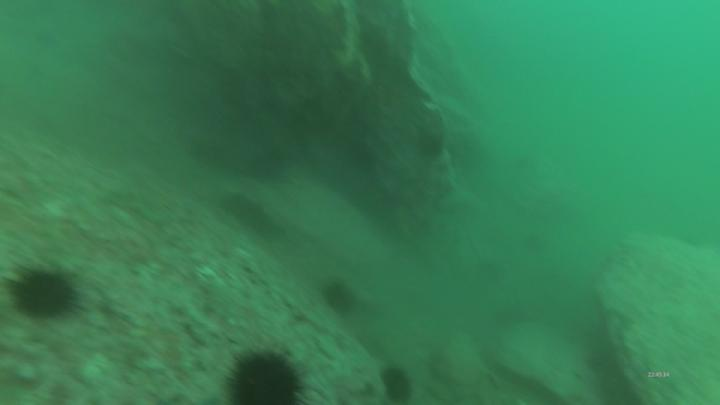echinus: (2, 260, 85, 328), (224, 345, 306, 405), (377, 366, 416, 404), (248, 146, 288, 183), (321, 278, 358, 317), (416, 132, 447, 160)
